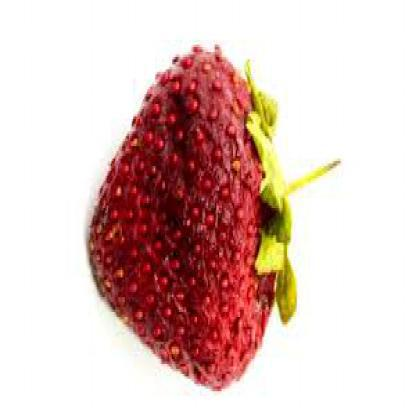strawberry_rotten: (64, 19, 362, 406)
